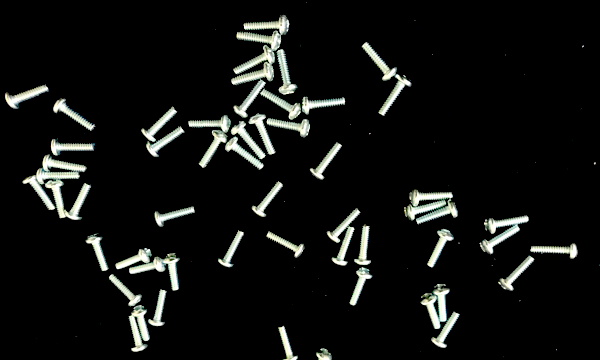shortscrew: (53, 97, 97, 133), (361, 41, 398, 83), (378, 74, 413, 117), (498, 256, 536, 293), (309, 141, 344, 181), (140, 106, 178, 142), (232, 81, 267, 120), (233, 44, 275, 76), (250, 180, 285, 218), (226, 137, 265, 171), (231, 121, 265, 160), (198, 128, 229, 169), (261, 89, 302, 120), (479, 225, 521, 255), (4, 83, 50, 110), (431, 310, 462, 350), (327, 208, 361, 244), (146, 127, 185, 158), (23, 172, 54, 211), (249, 113, 276, 155), (64, 182, 93, 221), (266, 231, 306, 259), (417, 200, 459, 226), (109, 274, 142, 307), (218, 229, 245, 269), (428, 228, 454, 268), (231, 62, 274, 86), (267, 116, 311, 139), (277, 49, 299, 95), (244, 14, 290, 35), (530, 241, 579, 260), (154, 205, 196, 227), (237, 30, 281, 51), (484, 214, 530, 234), (350, 267, 373, 307), (331, 226, 354, 266), (405, 200, 447, 221), (50, 137, 96, 156), (114, 247, 152, 270), (188, 114, 231, 134), (86, 233, 108, 272), (302, 96, 347, 115), (419, 293, 441, 331), (409, 188, 453, 207), (46, 181, 68, 219), (36, 167, 82, 185), (276, 324, 298, 360), (43, 155, 87, 173), (148, 289, 167, 328), (128, 316, 148, 353), (354, 225, 372, 266), (129, 255, 167, 274), (131, 304, 150, 342), (432, 283, 450, 323), (163, 252, 181, 291), (309, 349, 334, 360), (276, 359, 314, 360)
